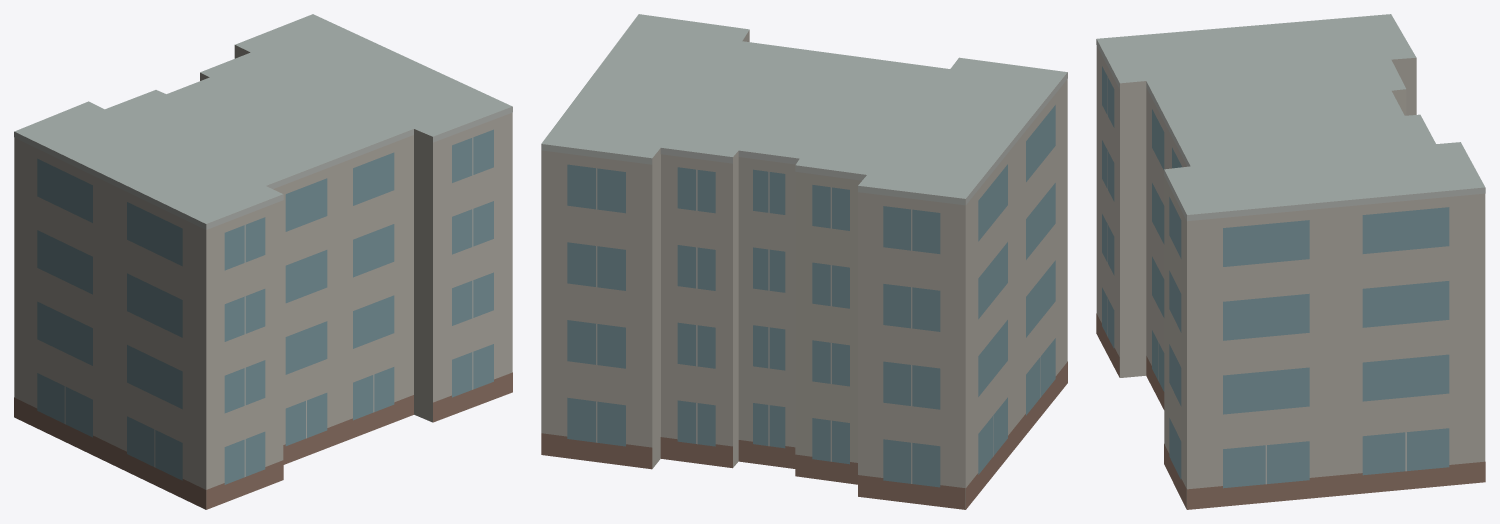
The model's file is survey-upis-32457175.glb.
3 renders of one model, left to right at view 1: azimuth 30°, elevation 25°; view 2: azimuth 150°, elevation 25°; view 3: azimuth 270°, elevation 25°, orthographic. The views are drawn at different scales.
Visible parts, largest first — view 1: survey-upis-32457175.tmp; view 2: survey-upis-32457175.tmp; view 3: survey-upis-32457175.tmp.
Boxes of the visible parts, x1=… form: survey-upis-32457175.tmp: x1=14, y1=14, x2=512, y2=509; survey-upis-32457175.tmp: x1=541, y1=14, x2=1067, y2=509; survey-upis-32457175.tmp: x1=1096, y1=14, x2=1485, y2=509.
Size of the model in its own units: 17.13 by 11.7 by 14.
